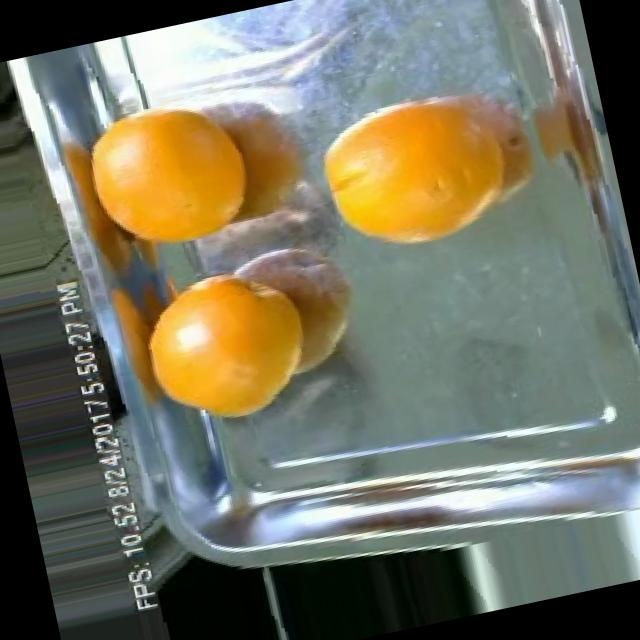Fruit: (114, 228, 349, 450), (58, 63, 296, 276), (292, 62, 528, 276)
